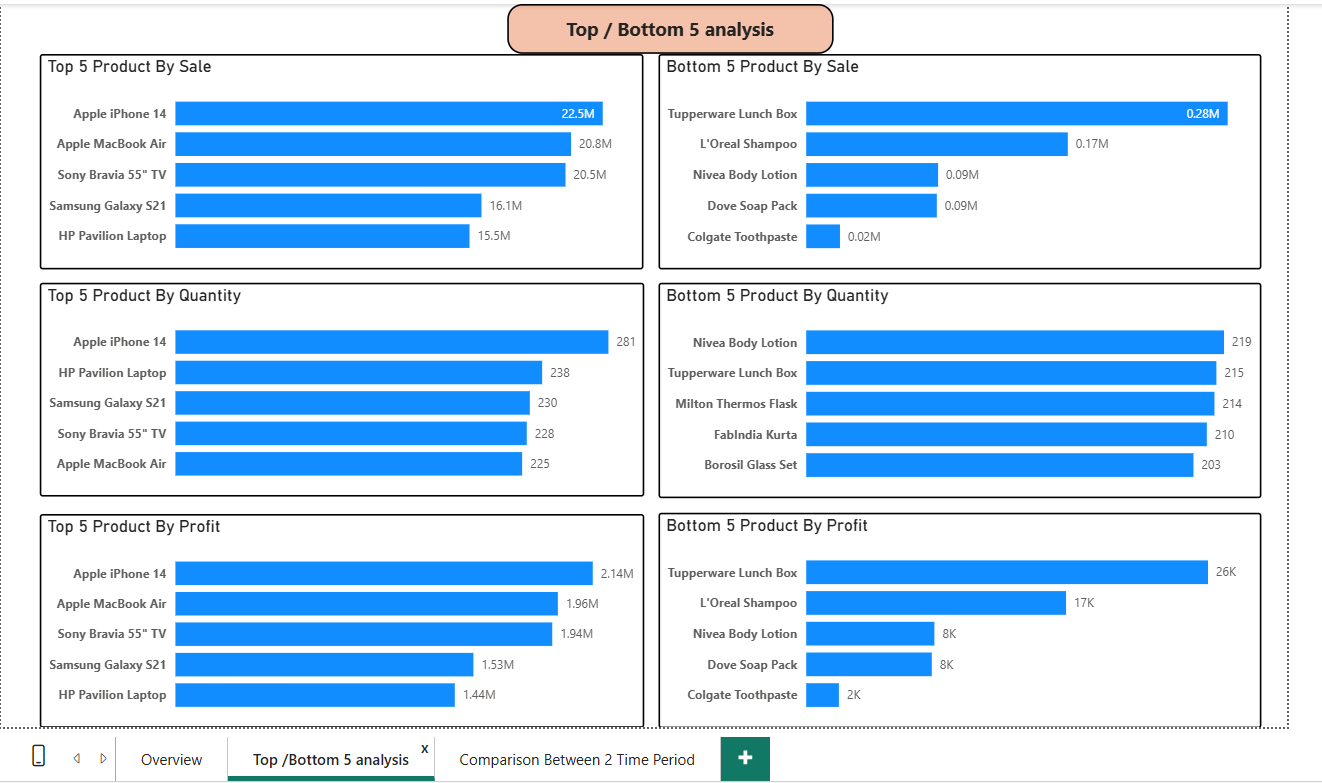

What the dashboard file says about the page in this screenshot:
{"tool":"powerbi","page":{"name":"Top /Bottom 5 analysis","canvas":[1280,720],"ordinal":1},"visuals":[{"type":"barChart","title":"Top 5 Product By Sale","fields":{"Category":["Dim Product.Product Name"],"Y":["Sum(Fact Table.Total Sale)"]},"box":[38.4,49.4,601,214.1],"z":0},{"type":"barChart","title":"Bottom 5 Product By Sale","fields":{"Category":["Dim Product.Product Name"],"Y":["Sum(Fact Table.Total Sale)"]},"box":[654.3,50,600,214.3],"z":1000},{"type":"barChart","title":"Top 5 Product By Quantity","fields":{"Category":["Dim Product.Product Name"],"Y":["Sum(Fact Table.Units Sold)"]},"box":[38.6,277.1,601.4,212.9],"z":2000},{"type":"barChart","title":"Bottom 5 Product By Quantity","fields":{"Category":["Dim Product.Product Name"],"Y":["Sum(Fact Table.Units Sold)"]},"box":[654.3,277.1,600,214.3],"z":3000},{"type":"barChart","title":"Top 5 Product By Profit","fields":{"Category":["Dim Product.Product Name"],"Y":["Sum(Fact Table.Profit)"]},"box":[38.6,507.1,601.4,212.9],"z":4000},{"type":"barChart","title":"Bottom 5 Product By Profit","fields":{"Category":["Dim Product.Product Name"],"Y":["Sum(Fact Table.Profit)"]},"box":[654.3,505.7,600,214.3],"z":5000},{"type":"textbox","box":[503.8,0,324.7,49.8],"z":6000}]}

Visuals, with their boxes in screenshot pixels (x1, y1, x2, y2):
"Top 5 Product By Sale" barChart: [left=25, top=47, right=637, bottom=265]
"Bottom 5 Product By Sale" barChart: [left=653, top=47, right=1264, bottom=266]
"Top 5 Product By Quantity" barChart: [left=26, top=279, right=638, bottom=496]
"Bottom 5 Product By Quantity" barChart: [left=653, top=279, right=1264, bottom=497]
"Top 5 Product By Profit" barChart: [left=26, top=513, right=638, bottom=730]
"Bottom 5 Product By Profit" barChart: [left=653, top=512, right=1264, bottom=730]
textbox: [left=499, top=0, right=830, bottom=47]
